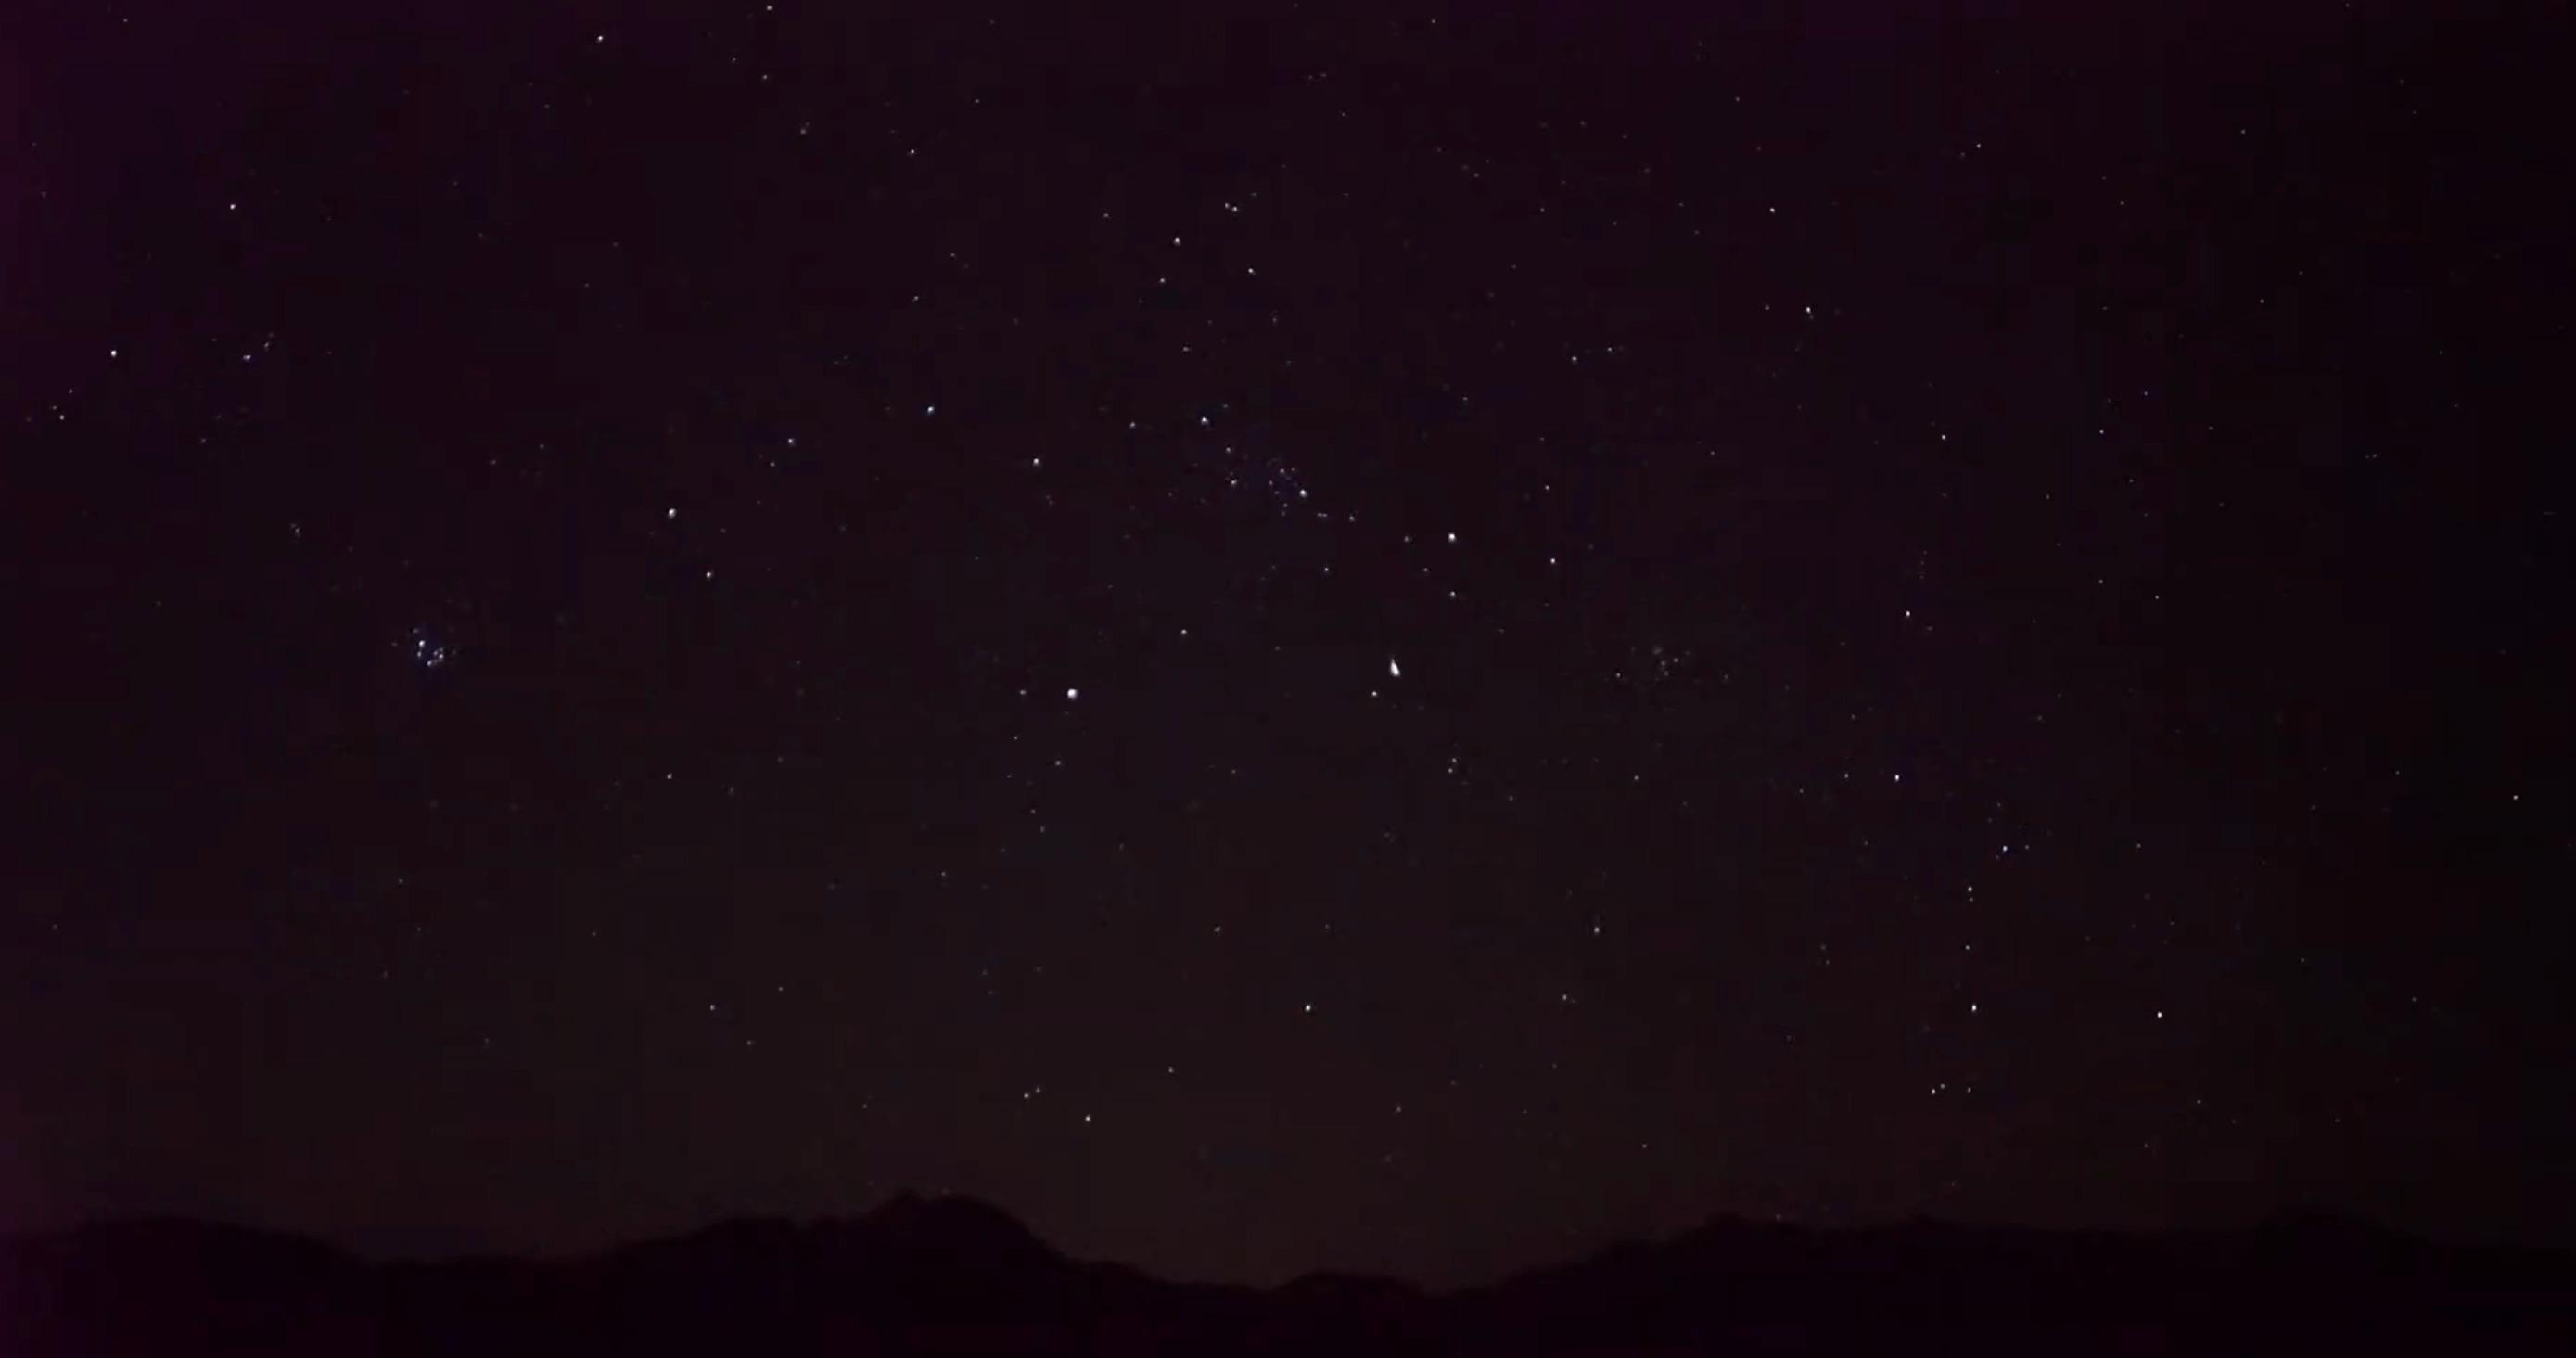meteorite: (1353, 642, 1448, 692)
